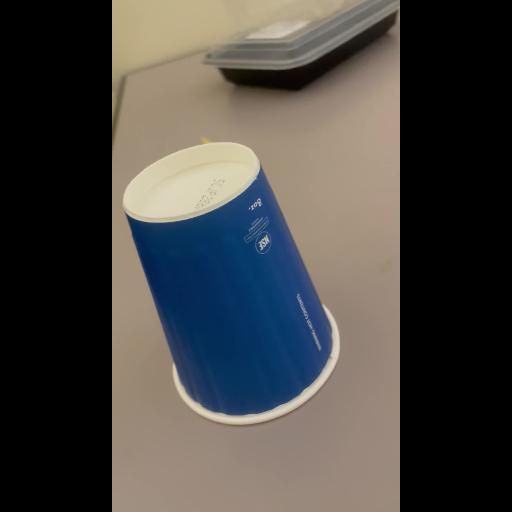lp_paper_cup: (116, 136, 344, 434)
